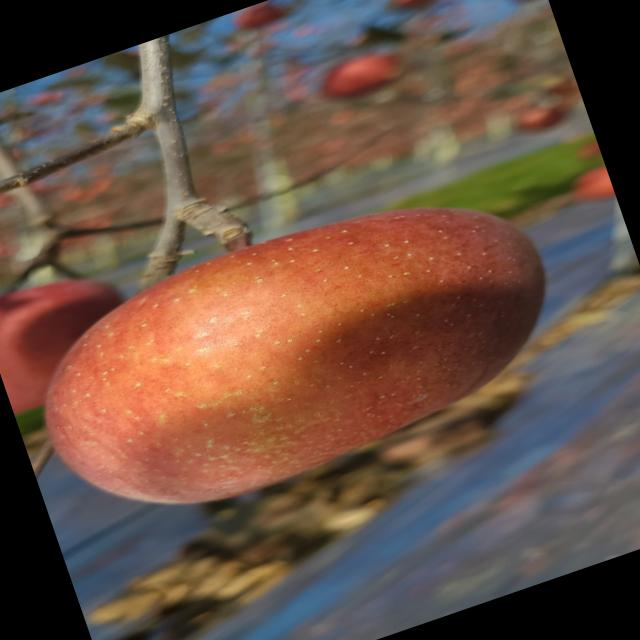fresh: (1, 145, 601, 565)
